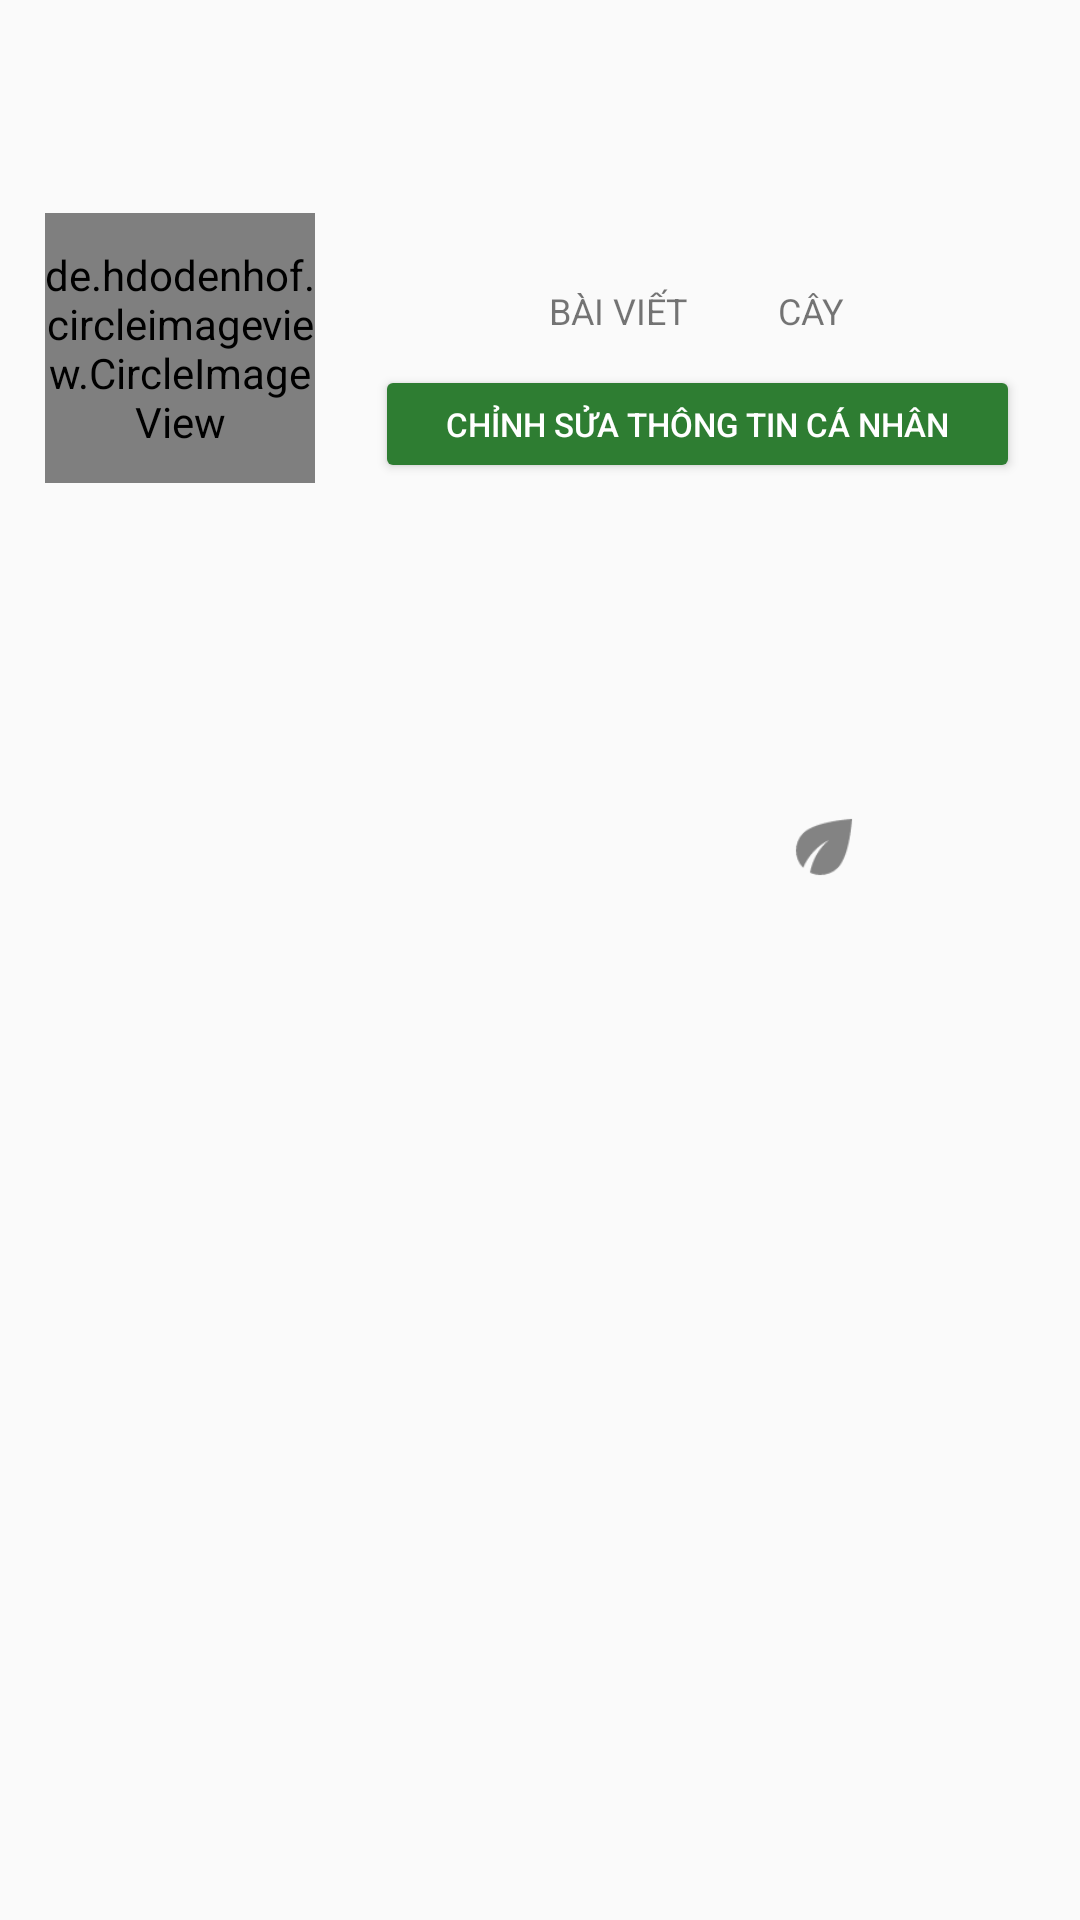

Named icons in this screenshot (1080 × 1920) and their centers, (x,y):
leaf: (824,847)
